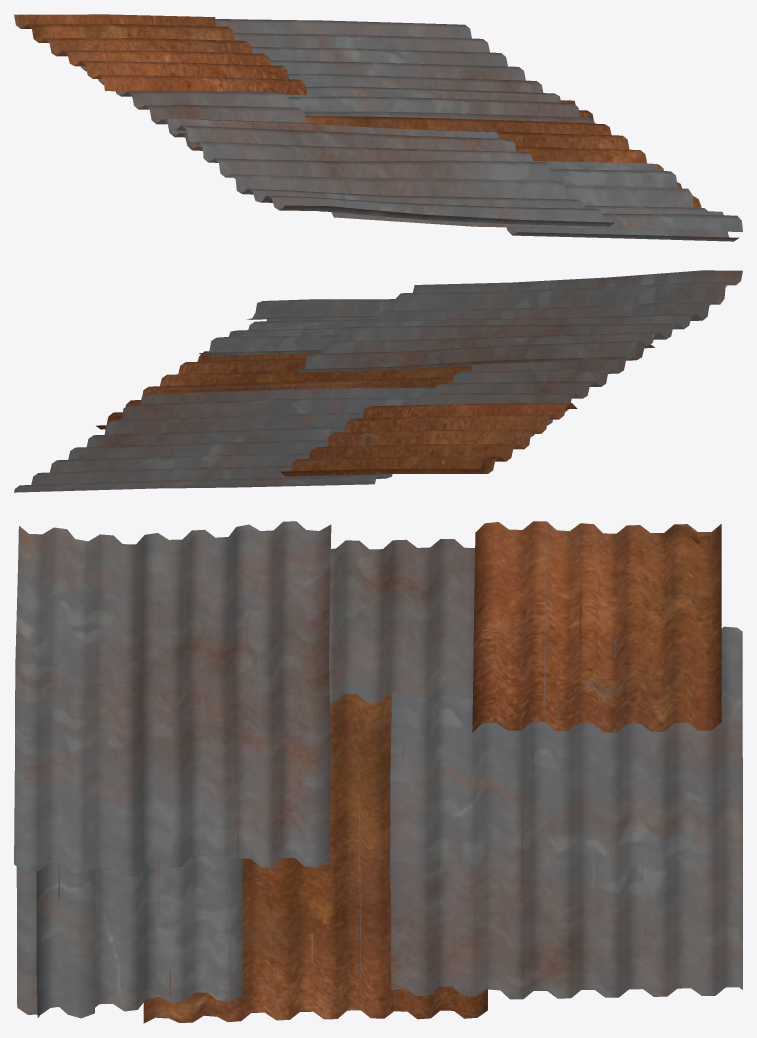
The picture shows the model from 3 angles, top to bottom: view 1: azimuth 30°, elevation 25°; view 2: azimuth 150°, elevation 25°; view 3: azimuth 270°, elevation 25°; orthographic projection. The views are drawn at different scales.
Parts seen in each view (by area): view 1: E_R_1; view 2: E_R_1; view 3: E_R_1.
Boxes of the visible parts, x1,y1,x2,y2 form: E_R_1: [14, 14, 742, 241]; E_R_1: [14, 270, 742, 492]; E_R_1: [14, 521, 742, 1023].
Size of the model in its own units: 320 by 98.41 by 321.
Materials: 1 (1 with a texture image).
